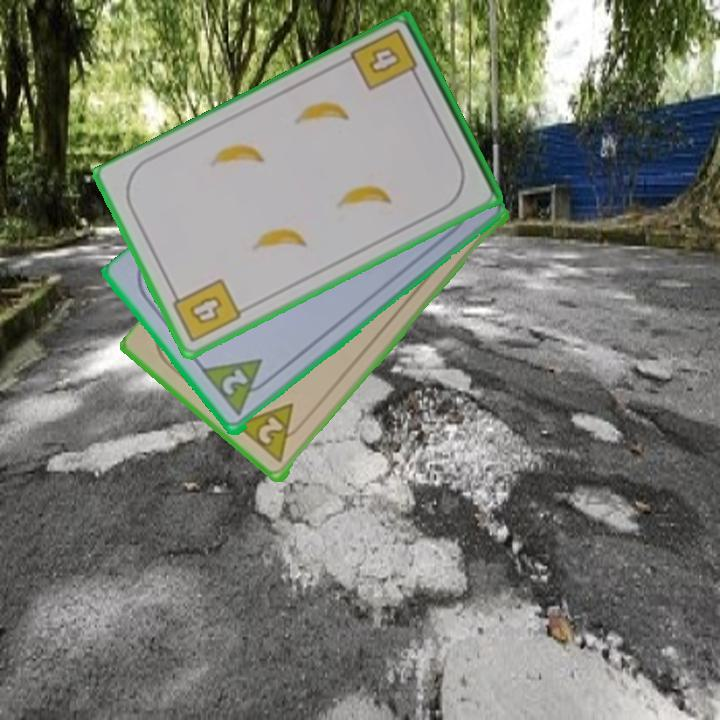2p: (233, 400, 310, 467), (199, 355, 278, 420)
4b: (167, 275, 244, 346), (347, 25, 424, 94)
